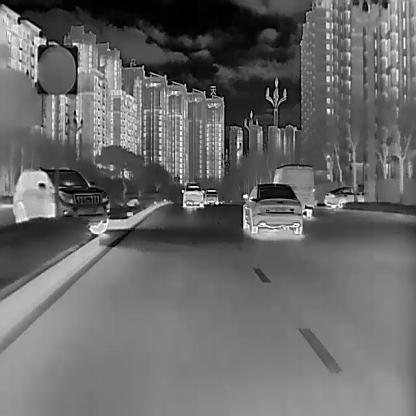car: (11, 162, 111, 236), (240, 181, 303, 234), (272, 162, 314, 216), (324, 184, 364, 208), (181, 180, 204, 208), (204, 185, 218, 204)
